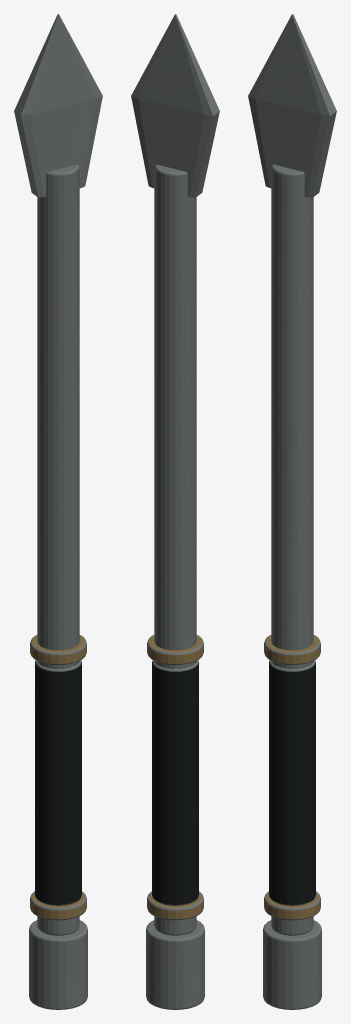
Rendered from long_spear-t1.glb.
3 views of the same model, side by side, from view 1: azimuth 30°, elevation 25°; view 2: azimuth 150°, elevation 25°; view 3: azimuth 330°, elevation 25° (orthographic).
Parts seen in each view (by area): view 1: Steel shaft, Continuous two-hand wrap, Forged spear point, Spear rear counterweight, Grip ferrule.001, Grip ferrule; view 2: Steel shaft, Continuous two-hand wrap, Forged spear point, Spear rear counterweight, Grip ferrule.001, Grip ferrule; view 3: Steel shaft, Continuous two-hand wrap, Forged spear point, Spear rear counterweight, Grip ferrule.001, Grip ferrule.
Boxes of the visible parts, x1=… form: Steel shaft: x1=37, y1=164, x2=79, y2=935; Continuous two-hand wrap: x1=35, y1=660, x2=81, y2=905; Forged spear point: x1=14, y1=14, x2=102, y2=197; Spear rear counterweight: x1=29, y1=920, x2=87, y2=1009; Grip ferrule.001: x1=30, y1=635, x2=86, y2=664; Grip ferrule: x1=30, y1=891, x2=86, y2=920; Steel shaft: x1=154, y1=164, x2=196, y2=935; Continuous two-hand wrap: x1=152, y1=660, x2=198, y2=905; Forged spear point: x1=131, y1=14, x2=219, y2=197; Spear rear counterweight: x1=146, y1=920, x2=204, y2=1009; Grip ferrule.001: x1=147, y1=635, x2=203, y2=664; Grip ferrule: x1=147, y1=891, x2=203, y2=920; Steel shaft: x1=271, y1=164, x2=313, y2=935; Continuous two-hand wrap: x1=269, y1=660, x2=315, y2=905; Forged spear point: x1=248, y1=14, x2=336, y2=197; Spear rear counterweight: x1=263, y1=920, x2=321, y2=1009; Grip ferrule.001: x1=264, y1=635, x2=320, y2=664; Grip ferrule: x1=264, y1=891, x2=320, y2=920.
Size of the model in its own units: 0.2798 by 3.2 by 0.174.
Materials: 3 (3 with a texture image).
